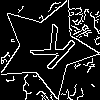K: (21, 23, 78, 80)
